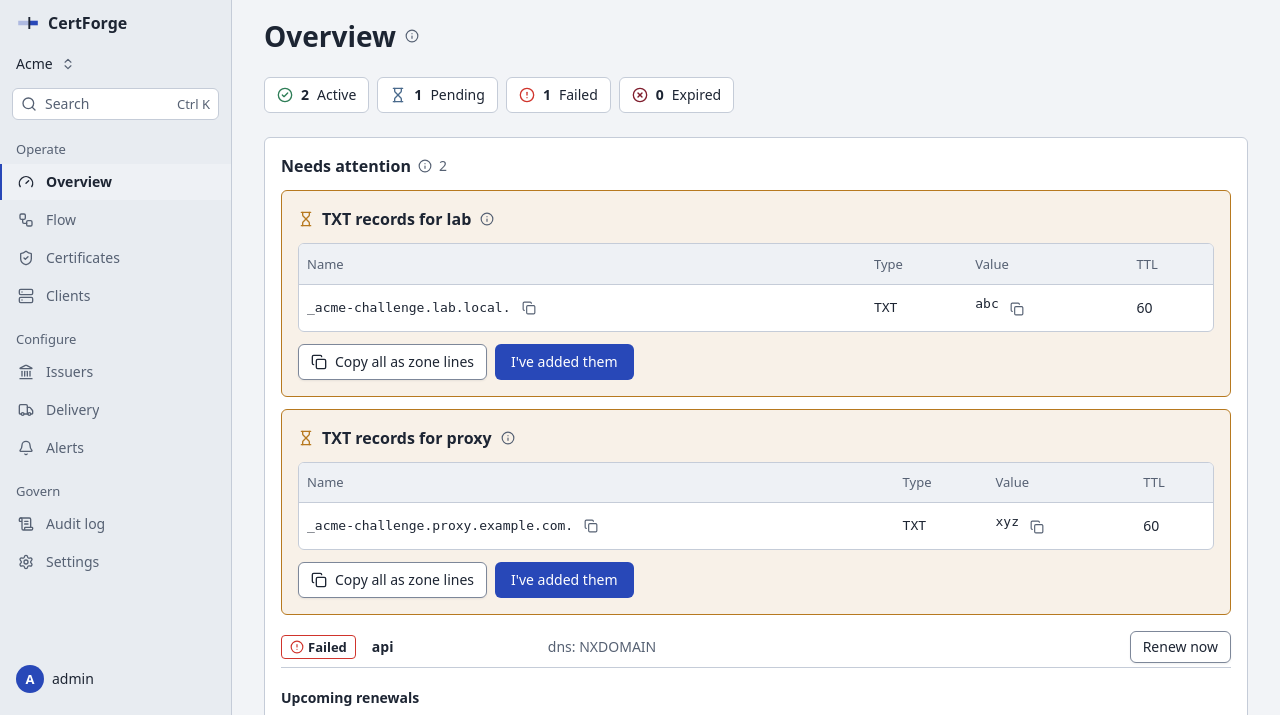
pins manual-dns cards (including a renewing active certificate), lists attention items with an inline fix, and links count tiles to filters
Expected: the element named "Manual DNS for lab" is shown, [281,190,1231,396]
Expected: the element named "Manual DNS for proxy" is shown, [281,408,1231,615]
Click the button "Renew now" at (1180, 647), box [1130,631,1231,663]
(page scrolled)
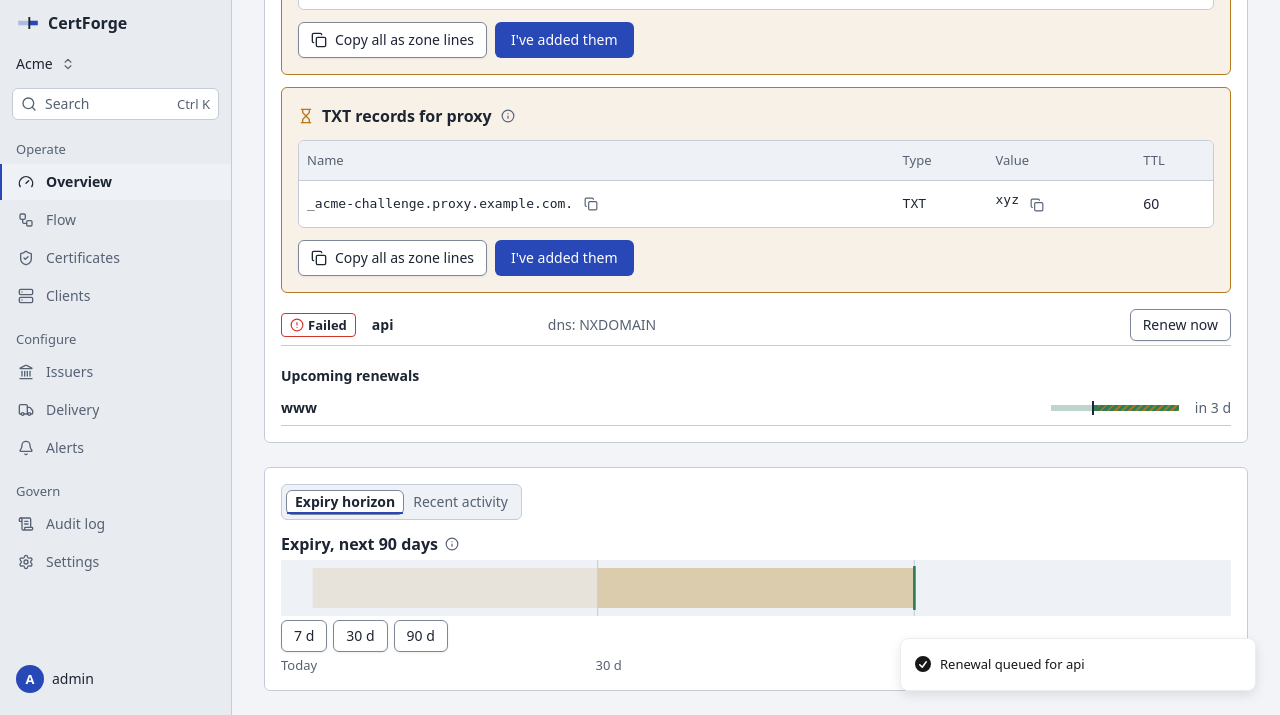
Expected: the link "www" is shown, [281,398,317,416]
Now the text "Renewal queued for api" is shown, box [940,654,1085,674]
